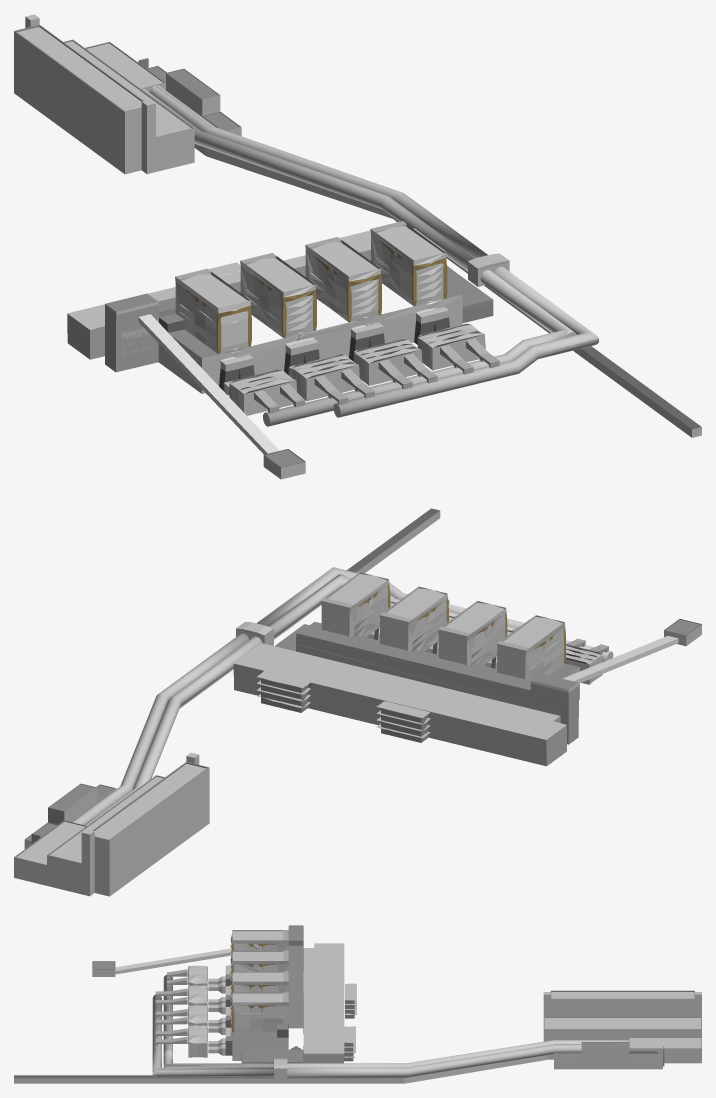
The model's file is kraftwerk-jaenschwalde_LOD02.gltf.
3 views of the same model, one above another, from view 1: azimuth 30°, elevation 25°; view 2: azimuth 150°, elevation 25°; view 3: azimuth 270°, elevation 25° (orthographic). The views are drawn at different scales.
Visible parts, largest first — view 1: building deg 1.42, long pipes.003, pipe connections.003; view 2: building deg 1.42, long pipes.003; view 3: long pipes.003, building deg 1.42, pipe connections.003.
Part boxes in pixels (x1,y1,x2,y2): building deg 1.42: (67,221,493,415); long pipes.003: (14,14,701,479); pipe connections.003: (223,327,499,413); building deg 1.42: (233,572,602,766); long pipes.003: (14,508,701,896); long pipes.003: (14,948,701,1083); building deg 1.42: (188,925,356,1063); pipe connections.003: (155,969,225,1055).
Bounding box in the file's own units: 275 × 55.28 × 647.
